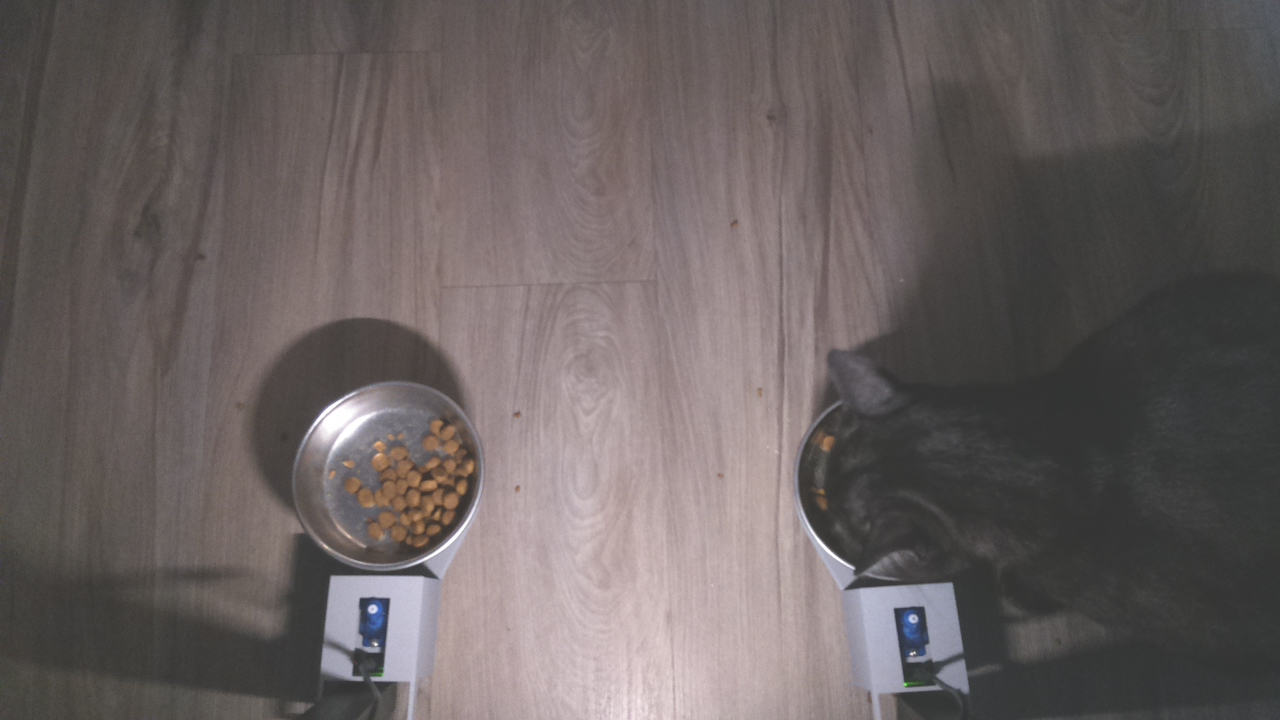open_bowl: (286, 376, 487, 577)
saki_eating: (785, 336, 1009, 590)
